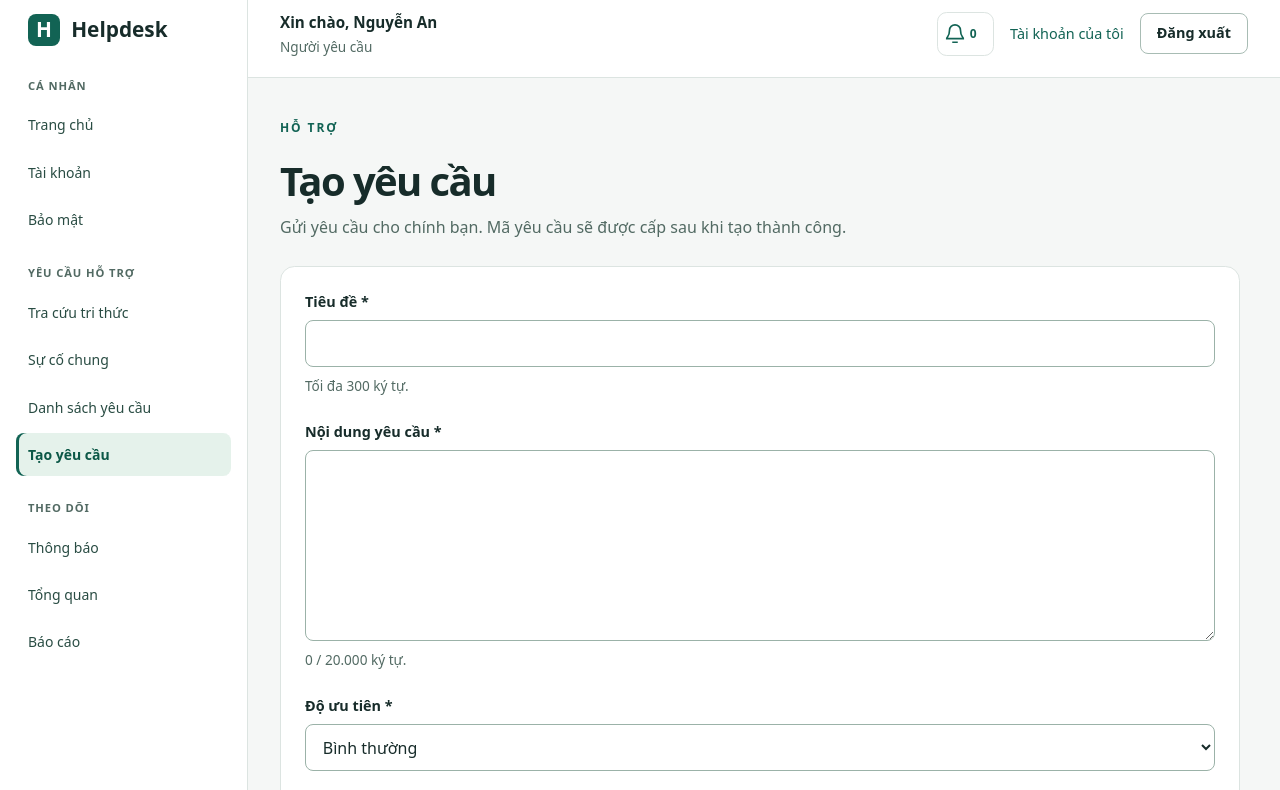
Test: create Ticket command, identity and result handling › posts only the DTO, invalidates lists of this session and opens server detail after 201
Step 1. Type "  Không kết nối VPN  " into the field labelled "Tiêu đề" → (760, 344), box [305,320,1215,367]
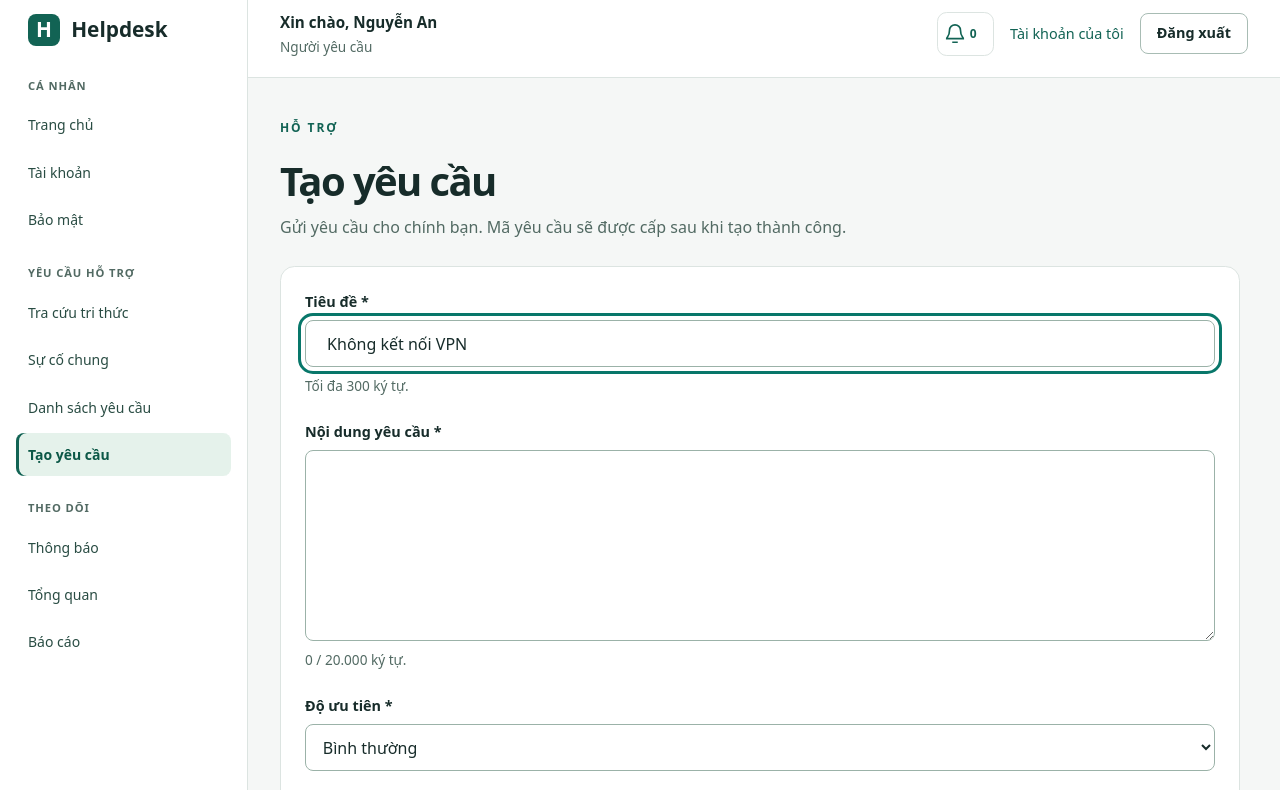
Step 2. Type "  Mô tả lỗi chi tiết.  " into the text box labelled "Nội dung yêu cầu" → (760, 546), box [305,450,1215,641]
(page scrolled)
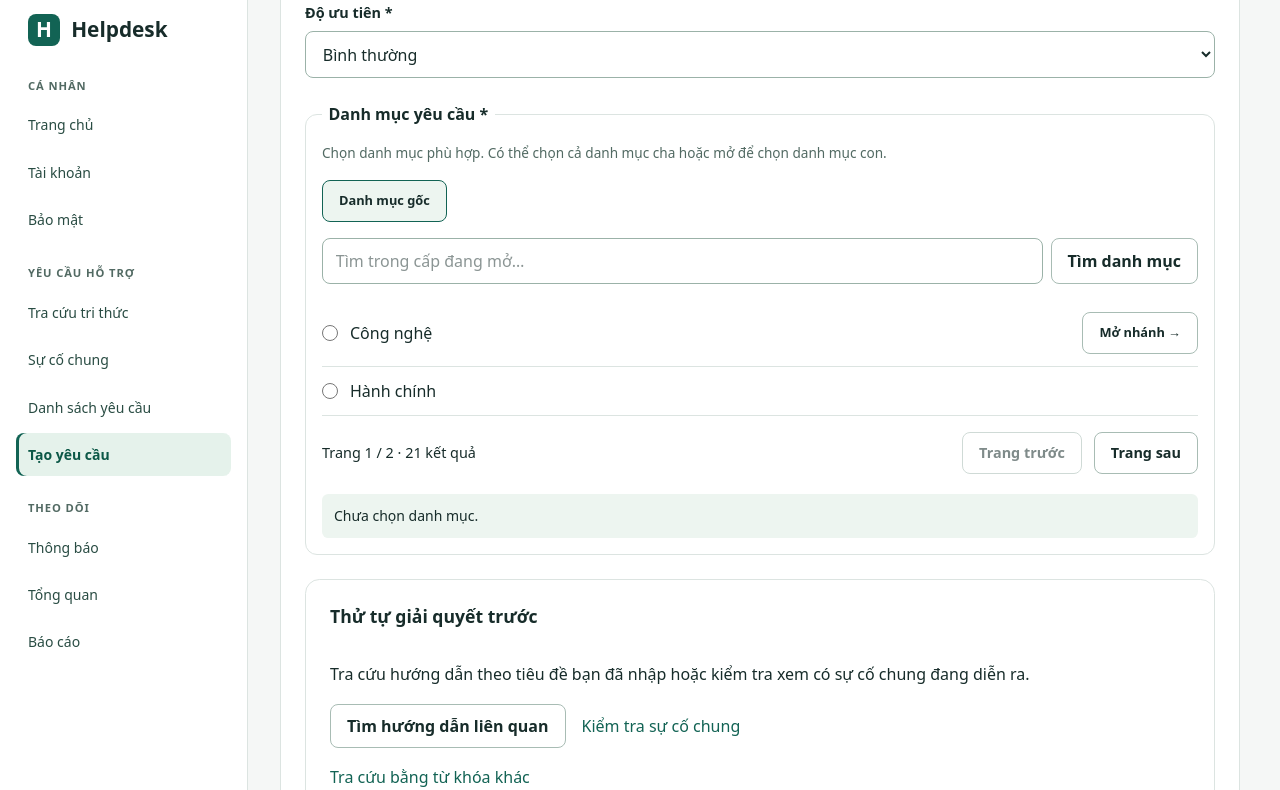
Step 3. Click the radio button labelled "Hành chính" → (330, 391), box [322,383,338,399]
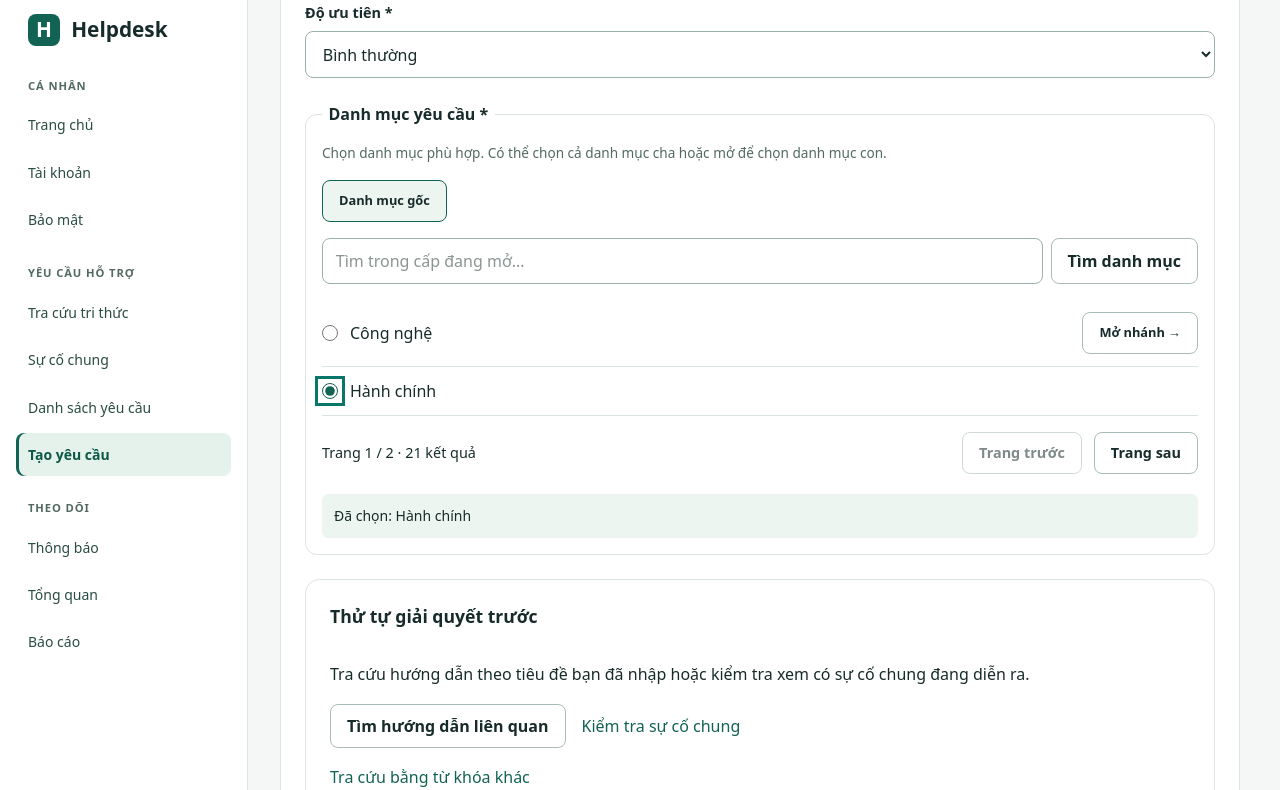
Step 4. Select "Khẩn cấp" in the dropdown labelled "Độ ưu tiên" → (760, 55), box [305,32,1215,78]
(page scrolled)
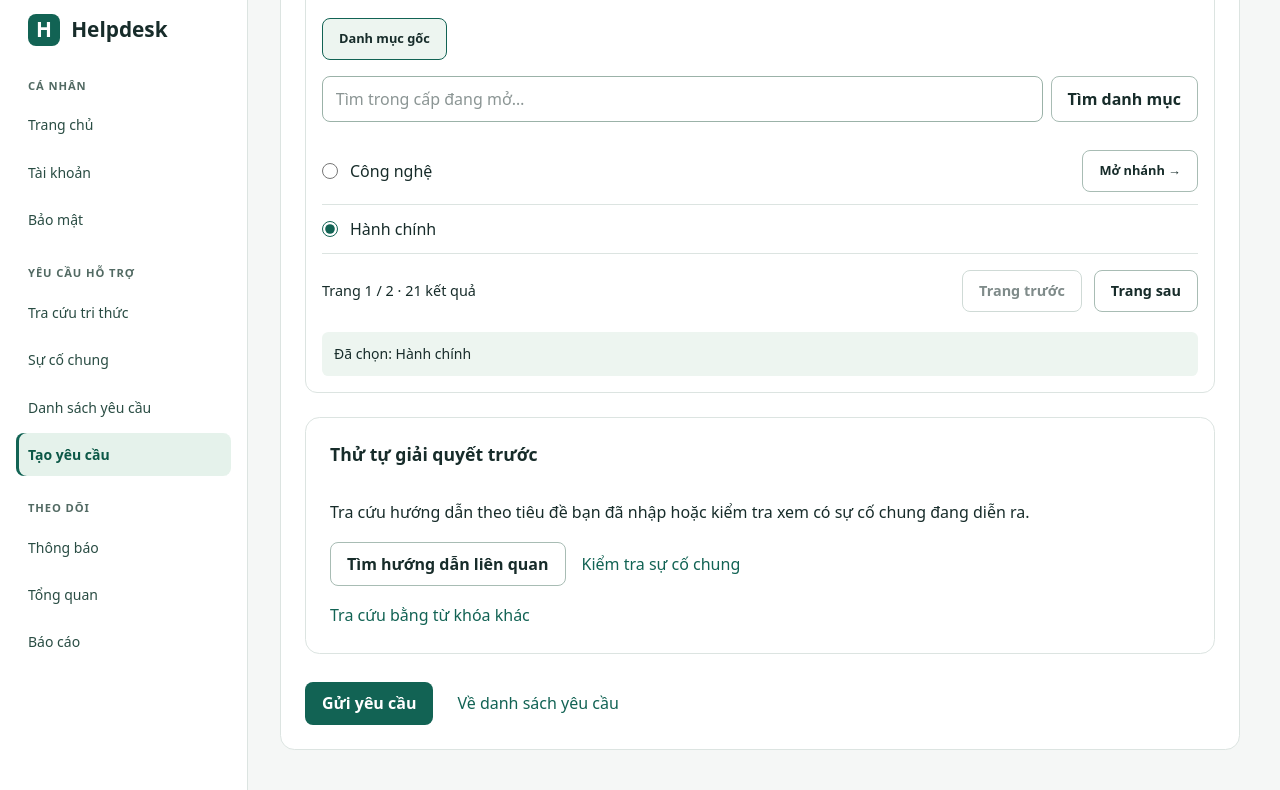
Step 5. Click the button "Gửi yêu cầu" → (369, 704), box [305,682,433,725]
(page scrolled)
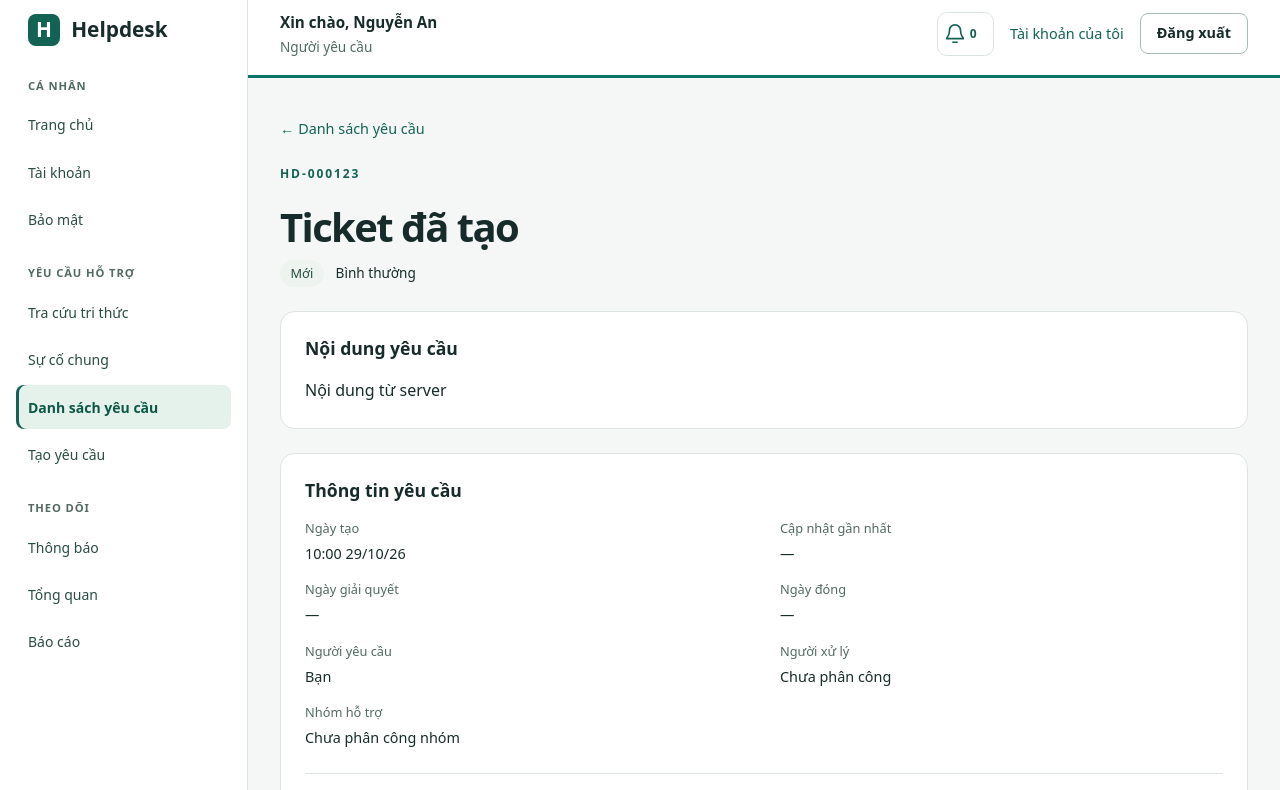
Now the heading "Ticket đã tạo" is shown, box [280,199,518,254]
Now the text "HD-000123" is shown, box [280,165,360,182]
